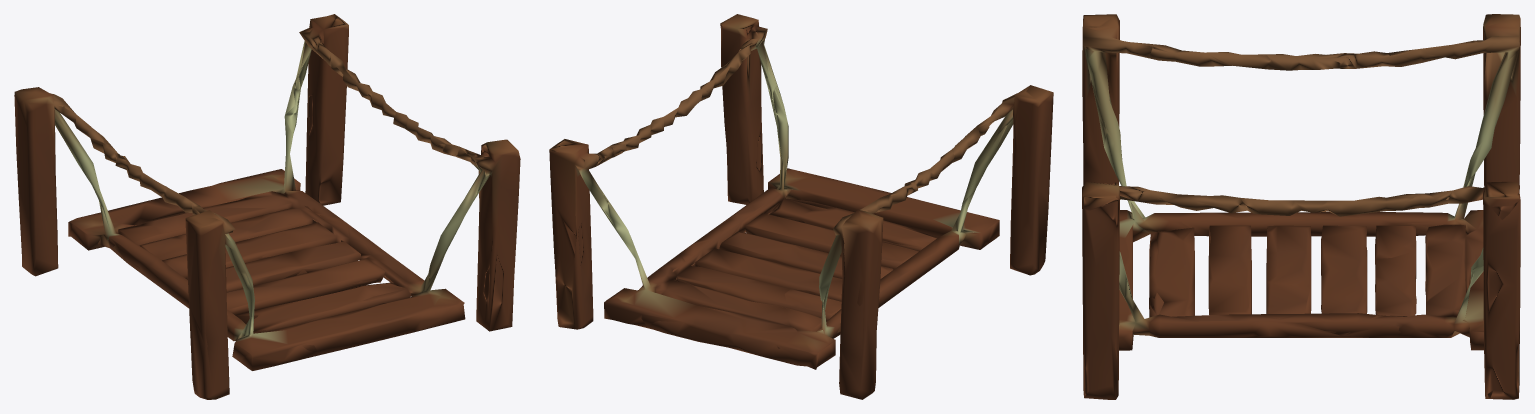
The model's file is gen3d-wooden-rope-bridge-lod0.glb.
The picture shows the model from 3 angles, left to right: view 1: azimuth 30°, elevation 25°; view 2: azimuth 150°, elevation 25°; view 3: azimuth 270°, elevation 25°; orthographic projection. The views are drawn at different scales.
Visible parts, largest first — view 1: part_0; view 2: part_0; view 3: part_0.
Boxes of the visible parts, <box> form: part_0: <box>14,14,520,399</box>; part_0: <box>549,14,1053,399</box>; part_0: <box>1082,14,1520,399</box>.
Size of the model in its own units: 1.9 by 0.9987 by 1.91.
